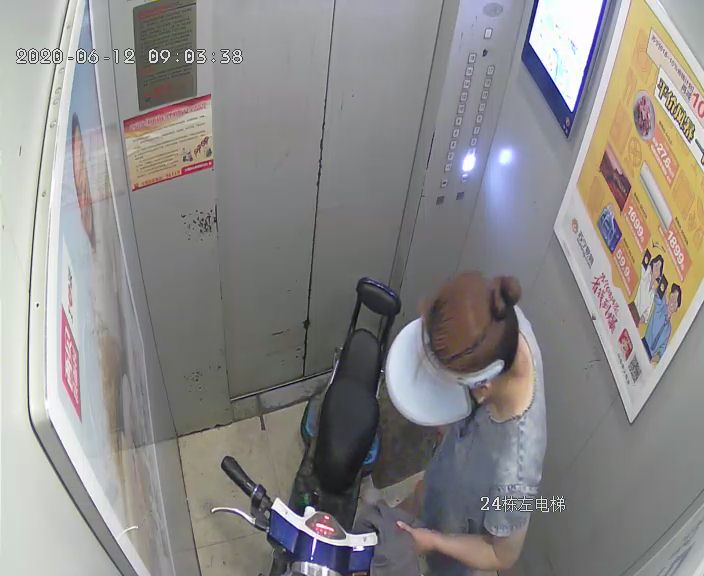Electric-bicycle: (209, 275, 418, 576)
